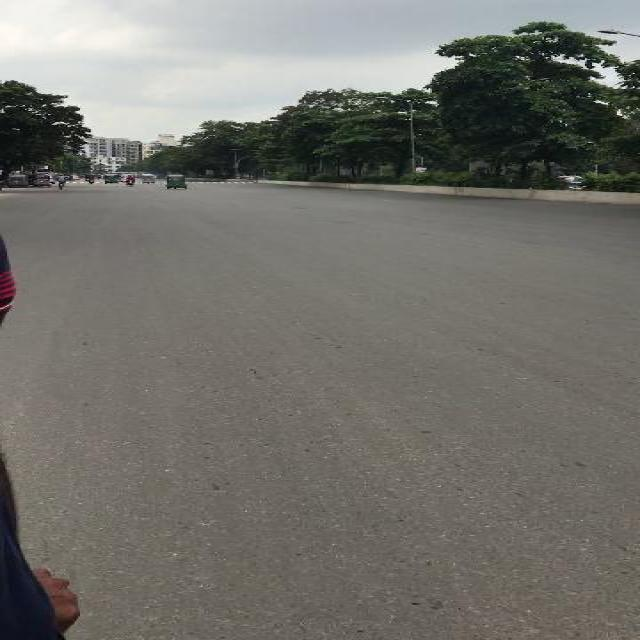bike: (57, 175, 66, 190), (128, 176, 135, 186), (88, 175, 95, 185)
vehicle: (164, 176, 187, 191), (29, 174, 51, 188), (9, 175, 29, 188), (142, 174, 156, 184), (104, 174, 118, 184)
